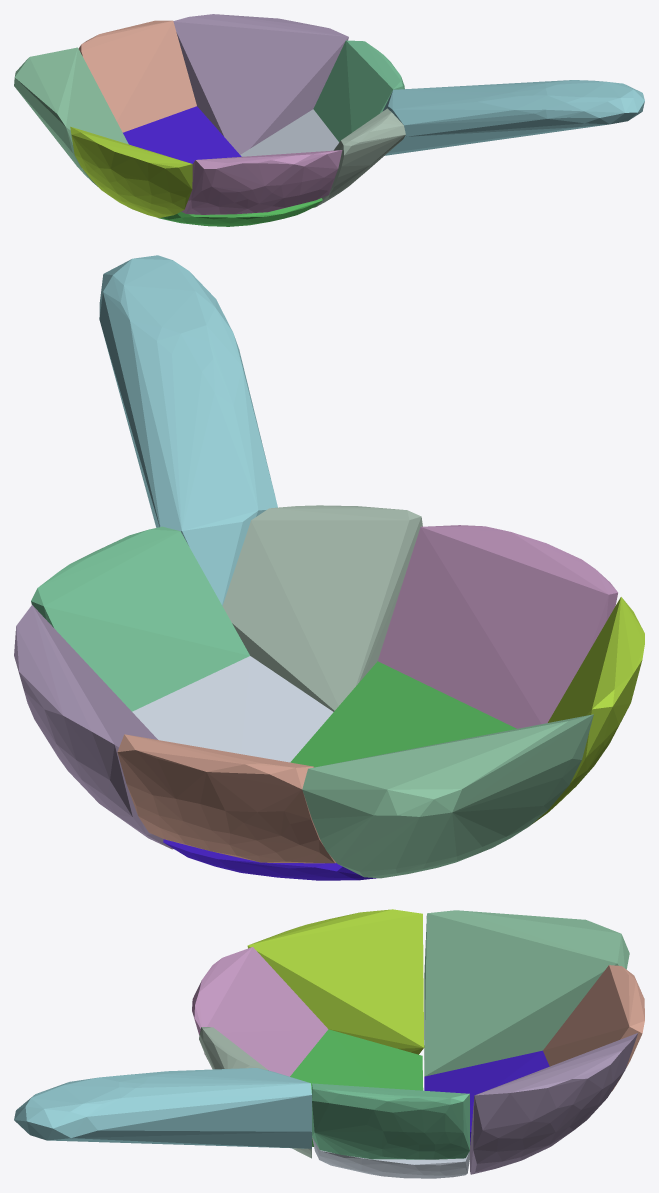
File: pan-collision.glb
3 renders of one model, top to bottom at view 1: azimuth 30°, elevation 25°; view 2: azimuth 150°, elevation 25°; view 3: azimuth 270°, elevation 25°, orthographic. The views are drawn at different scales.
Visible parts, largest first — view 1: world; view 2: world; view 3: world.
Part boxes in pixels (<box>): world: <box>14,14,644,226</box>; world: <box>14,255,644,880</box>; world: <box>14,909,644,1178</box>.
Size of the model in its own units: 0.2513 by 0.0834 by 0.2528.
